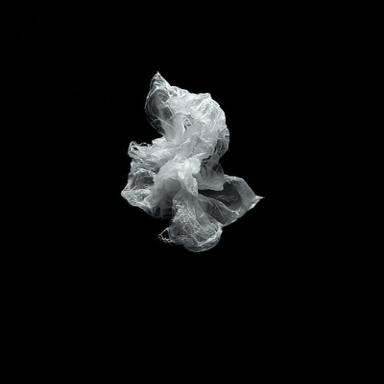plasticbag: (117, 65, 266, 263)
